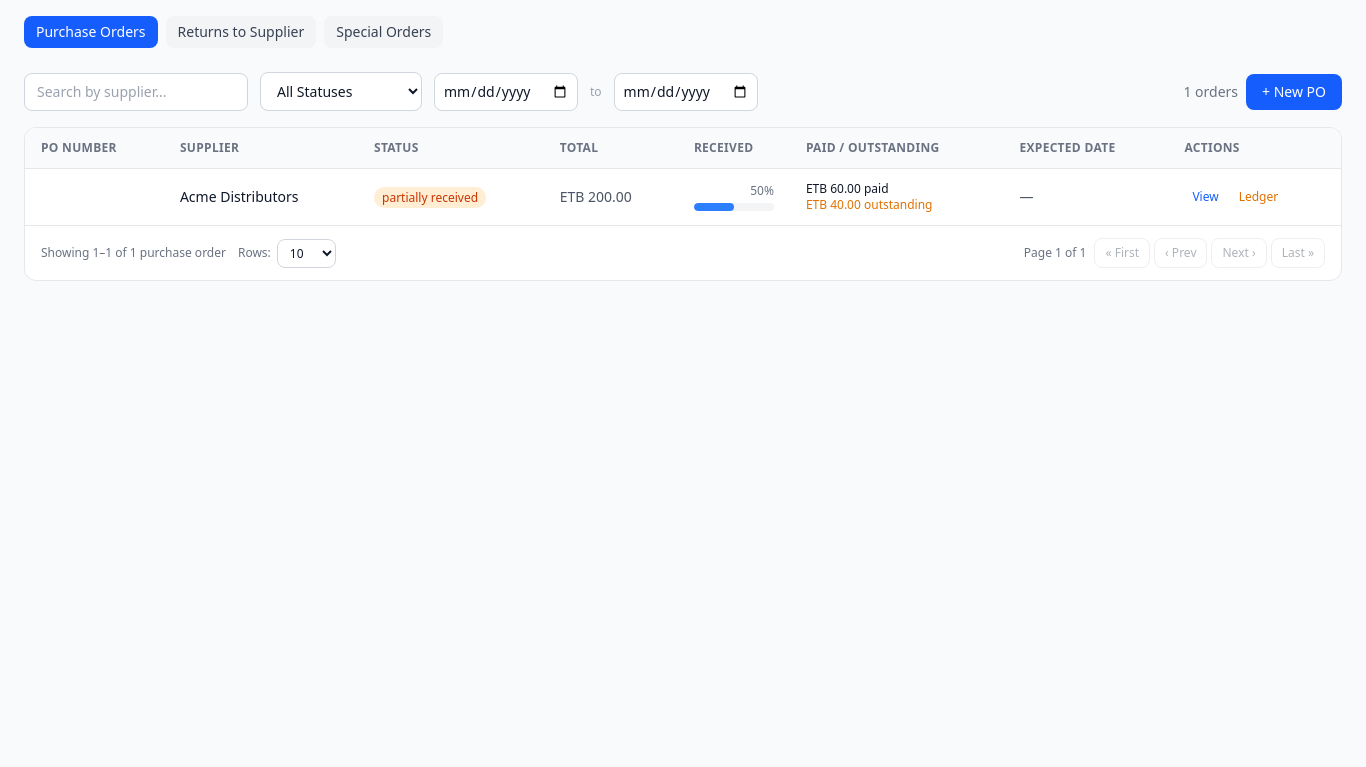
Scenario: ProcurementPage — Prompt 2 UI (progress bars, ledger, credit notes) › PO detail shows receiving/payment progress and the received-value AP basis
The image size is (1366, 767).
Expected: the text "Acme Distributors" is shown, [164,168,358,225]
Click the button "View".
click(1206, 197)  # box [1184,185,1227,209]
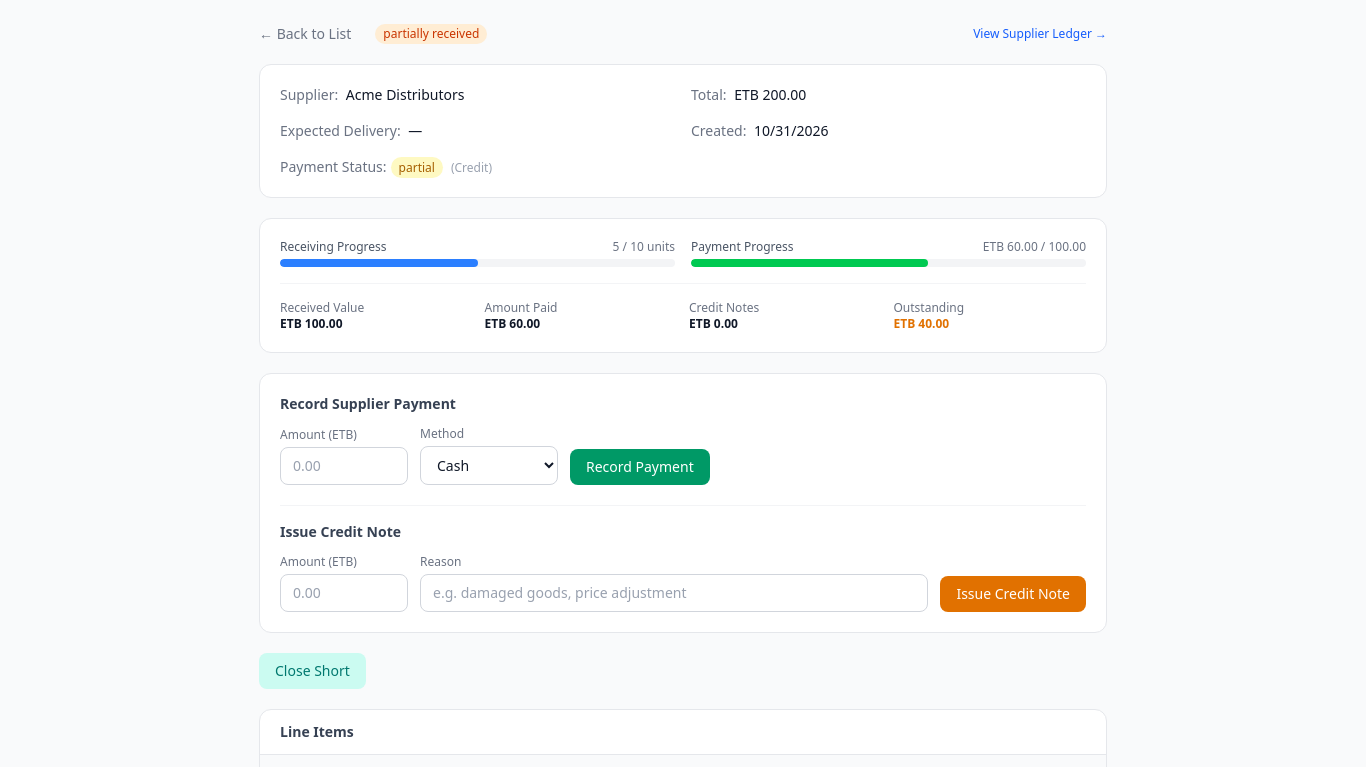
Result: the text "Receiving Progress" is shown at [280,239,387,255]
Result: the text "5 / 10 units" is shown at [613,239,675,255]
Result: the text "Payment Progress" is shown at [691,239,794,255]
